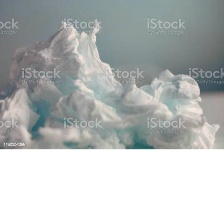tissue: (0, 13, 124, 148), (107, 64, 223, 149)
